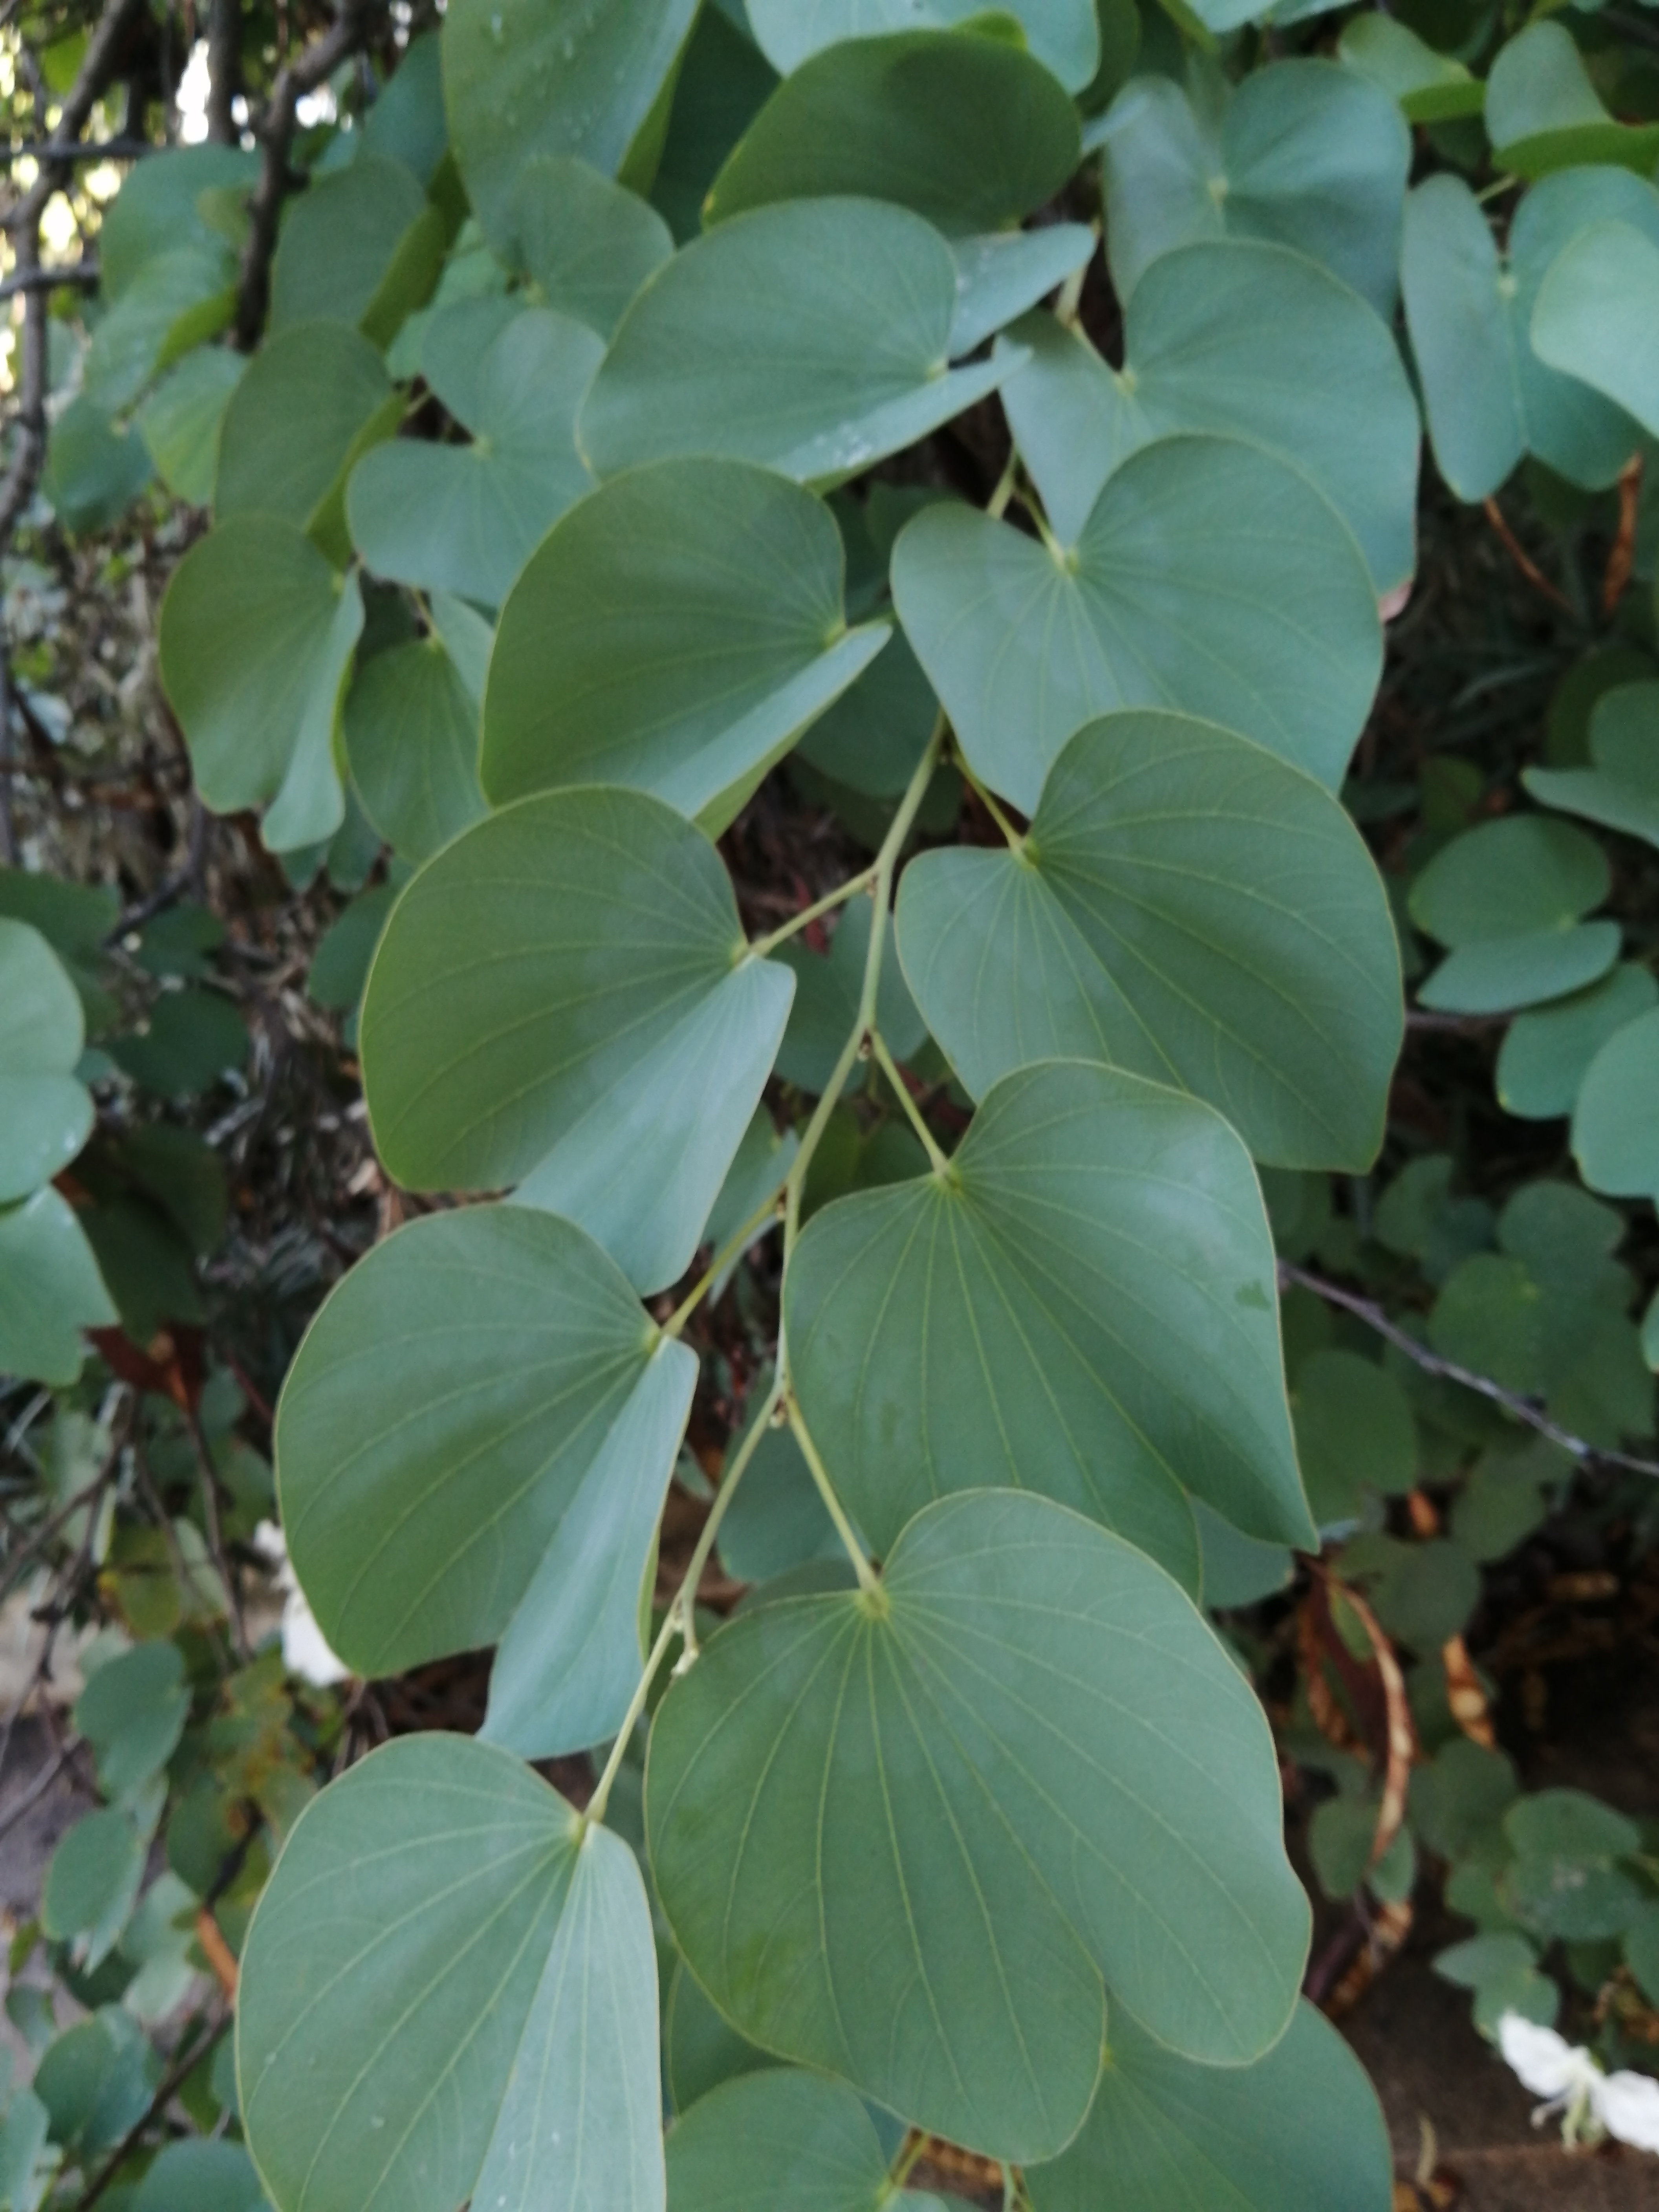healthy: (669, 1489, 1312, 2067), (244, 1237, 774, 1742), (931, 693, 1452, 1204), (816, 1064, 1337, 1557), (885, 423, 1466, 822), (221, 1743, 723, 2184), (321, 848, 850, 1231), (399, 482, 941, 822), (558, 188, 1061, 517), (993, 247, 1398, 608), (141, 472, 378, 867), (1384, 172, 1659, 489), (1396, 794, 1631, 1050)
